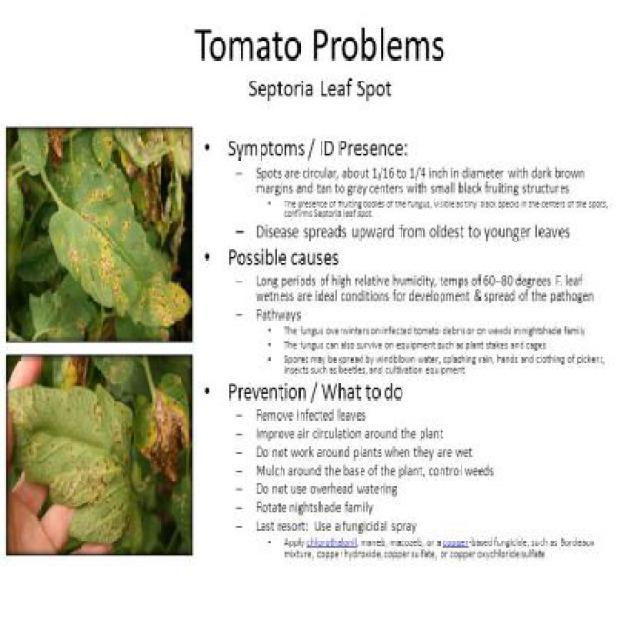Tomato Septoria spot leaf: (46, 164, 191, 330), (9, 383, 137, 545), (126, 364, 189, 490)
